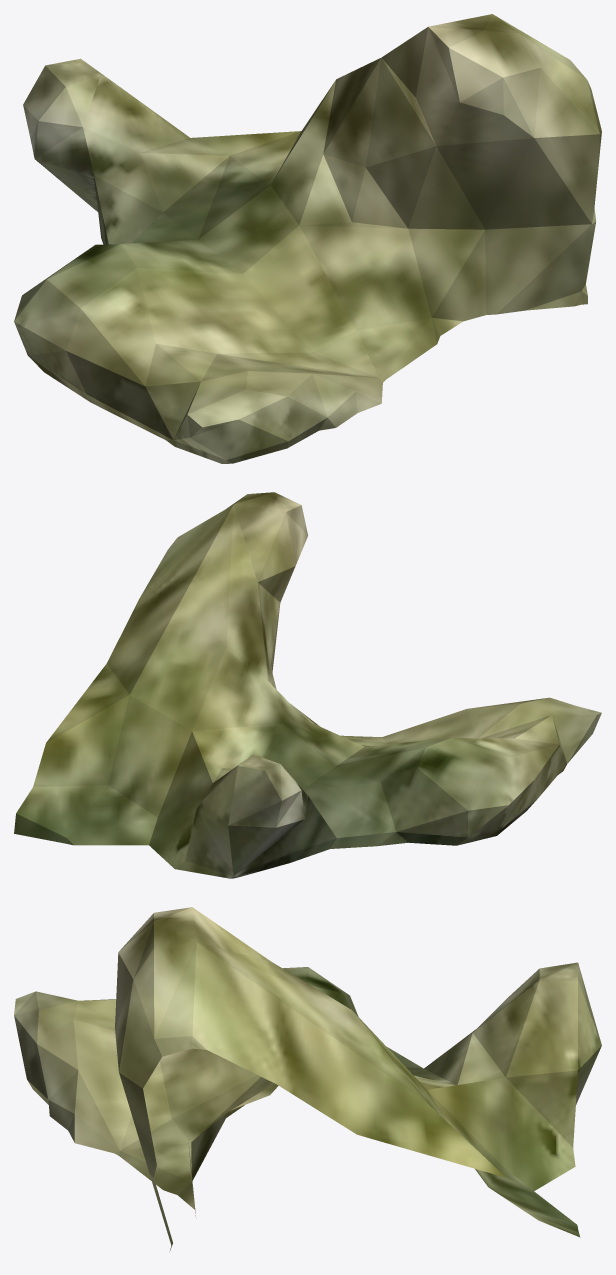
The picture shows the model from 3 angles, top to bottom: view 1: azimuth 30°, elevation 25°; view 2: azimuth 150°, elevation 25°; view 3: azimuth 270°, elevation 25°; orthographic projection. The views are drawn at different scales.
Size of the model in its own units: 1.07 by 0.6259 by 1.16.
1 material, 1 textured.
